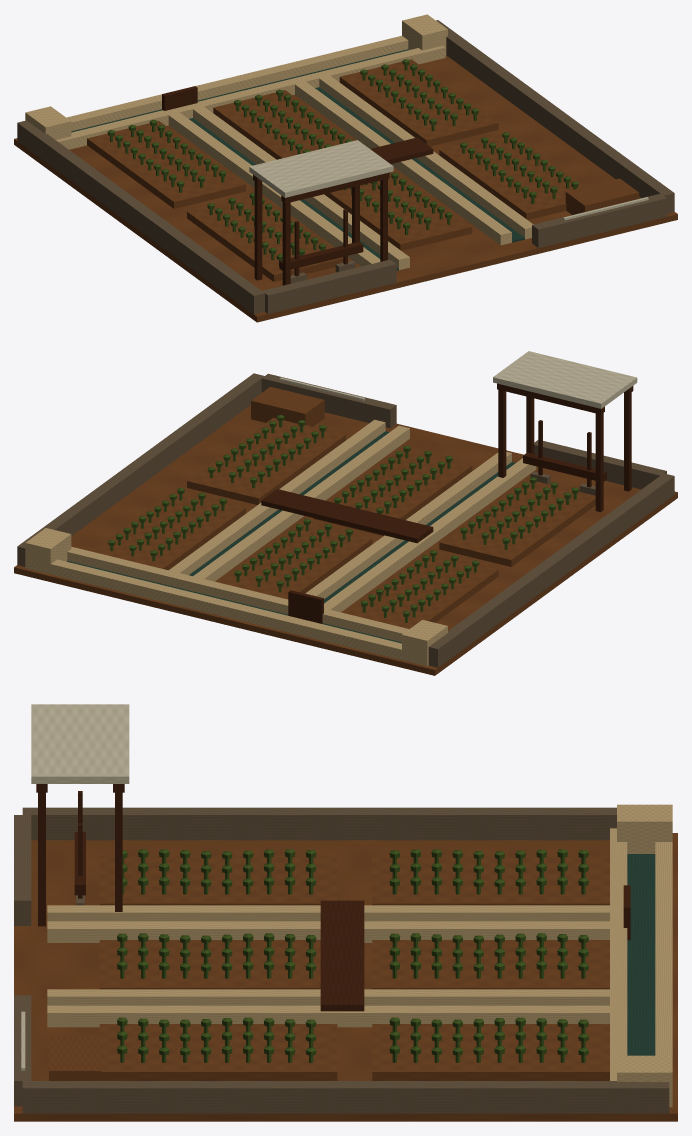
File: Berber_Farm_Age3_untouched.fbx
3 renders of one model, top to bottom at view 1: azimuth 30°, elevation 25°; view 2: azimuth 150°, elevation 25°; view 3: azimuth 270°, elevation 25°, orthographic. The views are drawn at different scales.
Parts seen in each view (by area): view 1: flat_earth_plot, low_side_edging, low_side_edging.001, raised_bed_0_1, raised_bed_2_1, raised_bed_2_0, header_channel_bank.001, woven_tool_shade, raised_bed_0_0, raised_bed_1_0, branch_channel_bank.002, header_channel_bank (+19 smaller); view 2: flat_earth_plot, low_side_edging, header_channel_bank.001, low_side_edging.001, raised_bed_0_0, raised_bed_2_0, raised_bed_2_1, raised_bed_0_1, raised_bed_1_1, header_channel_bank, woven_tool_shade, raised_bed_1_0 (+20 smaller); view 3: flat_earth_plot, low_side_edging.001, low_side_edging, raised_bed_2_1, raised_bed_2_0, branch_channel_bank.003, raised_bed_0_1, raised_bed_1_1, raised_bed_0_0, branch_channel_bank.001, branch_channel_bank.002, raised_bed_1_0 (+13 smaller).
Boxes of the visible parts, box(x1,y1,x2,y2) form: flat_earth_plot: box(14, 55, 677, 322); low_side_edging: box(17, 120, 264, 314); low_side_edging.001: box(436, 20, 674, 213); raised_bed_0_1: box(87, 121, 245, 208); raised_bed_2_1: box(339, 59, 498, 146); raised_bed_2_0: box(439, 132, 585, 219); header_channel_bank.001: box(66, 35, 408, 131); woven_tool_shade: box(249, 140, 393, 197); raised_bed_0_0: box(187, 196, 343, 281); raised_bed_1_0: box(324, 169, 472, 250); branch_channel_bank.002: box(295, 81, 511, 245); header_channel_bank: box(56, 45, 445, 149); flat_earth_plot: box(14, 405, 677, 675); low_side_edging: box(428, 473, 674, 667); header_channel_bank.001: box(30, 559, 422, 664); low_side_edging.001: box(17, 373, 264, 566); raised_bed_0_0: box(439, 479, 595, 566); raised_bed_2_0: box(187, 417, 345, 504); raised_bed_2_1: box(91, 490, 245, 570); raised_bed_0_1: box(343, 552, 498, 628); raised_bed_1_1: box(217, 521, 372, 599); header_channel_bank: box(67, 546, 409, 642); woven_tool_shade: box(493, 351, 637, 408); raised_bed_1_0: box(313, 448, 472, 535); flat_earth_plot: box(14, 833, 677, 1121); low_side_edging.001: box(22, 1081, 669, 1113); low_side_edging: box(22, 807, 616, 840); raised_bed_2_1: box(372, 1024, 609, 1080); raised_bed_2_0: box(99, 1024, 337, 1080); branch_channel_bank.003: box(47, 1005, 609, 1027); raised_bed_0_1: box(372, 855, 609, 905); raised_bed_1_1: box(372, 940, 609, 989); raised_bed_0_0: box(99, 855, 337, 905); branch_channel_bank.001: box(47, 921, 609, 942); branch_channel_bank.002: box(47, 989, 609, 1005); raised_bed_1_0: box(99, 940, 320, 989).
Bounding box in the file's own units: 380 × 101 × 380.
Materials: 7 (7 with a texture image).
